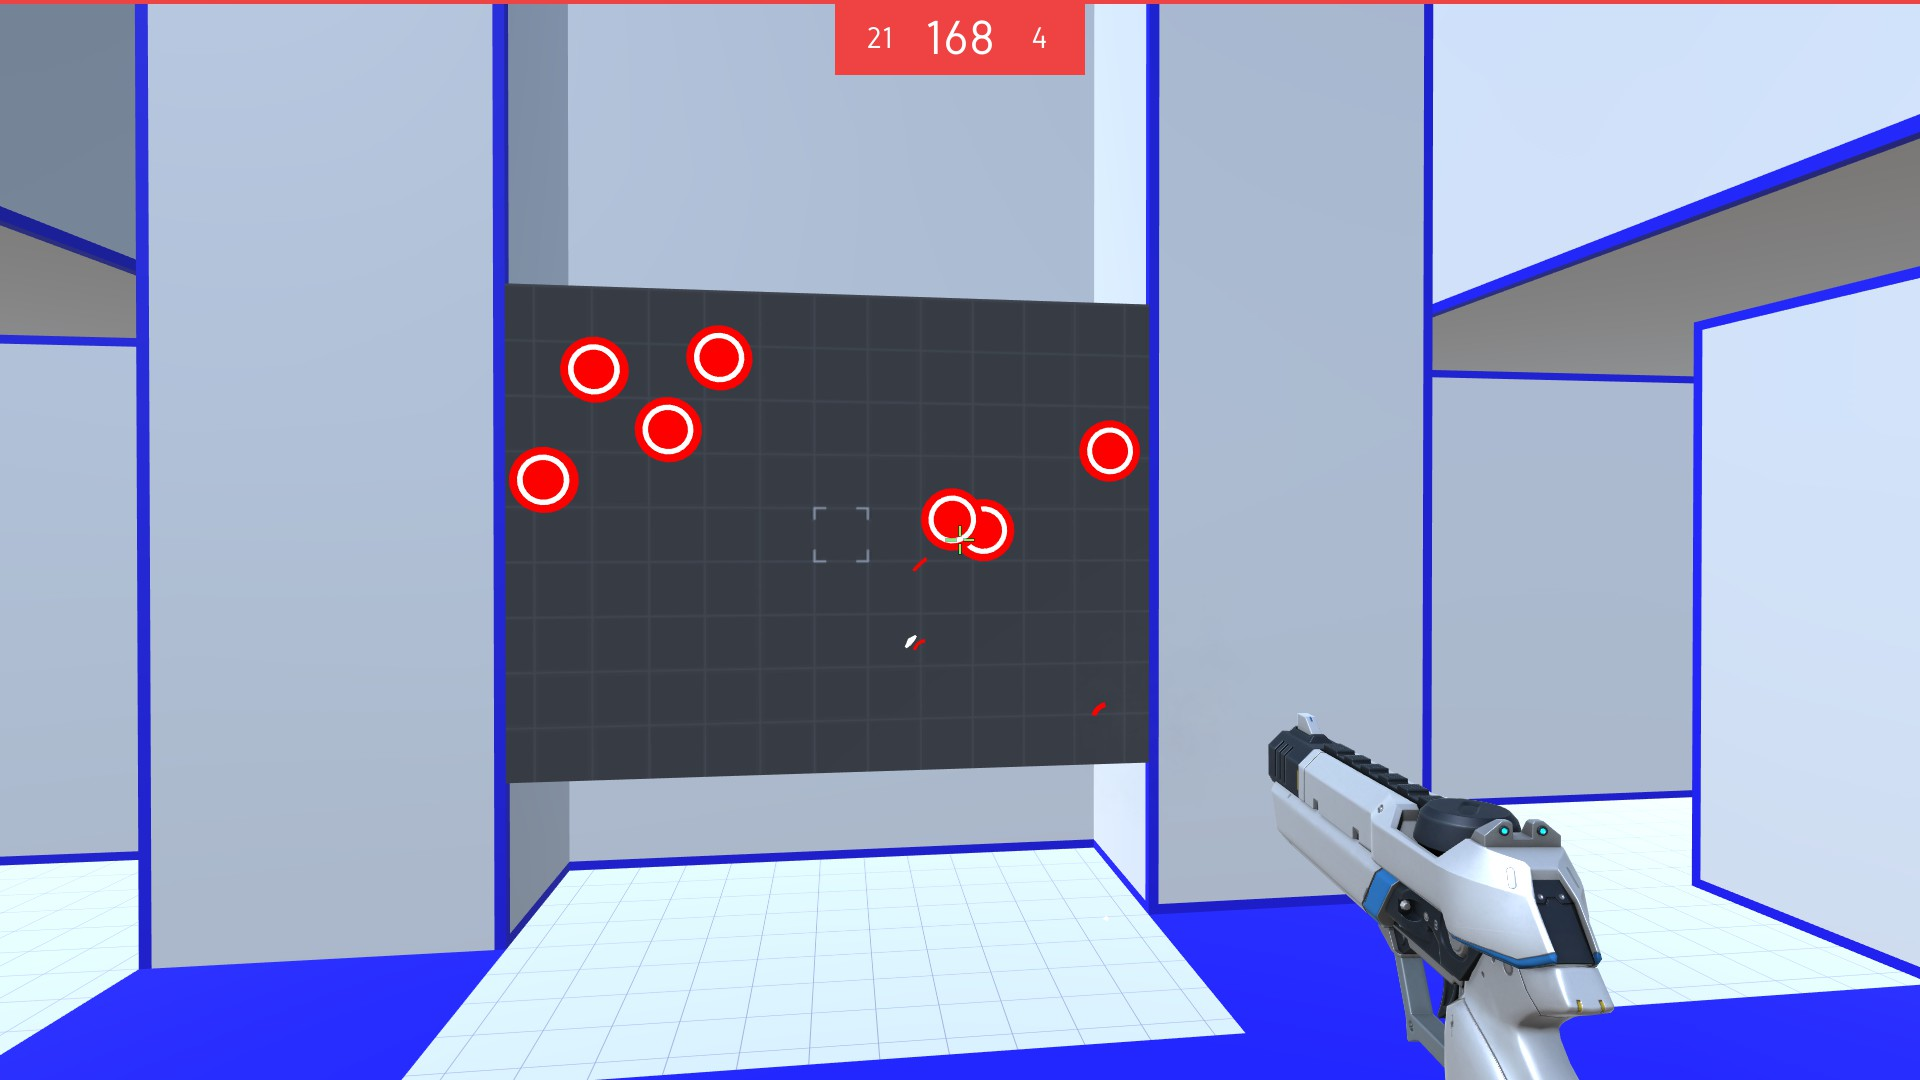target: (508, 440, 580, 518), (555, 334, 632, 405), (686, 324, 754, 398), (637, 396, 703, 462), (1076, 418, 1139, 487), (952, 496, 1015, 564), (914, 487, 976, 553)
